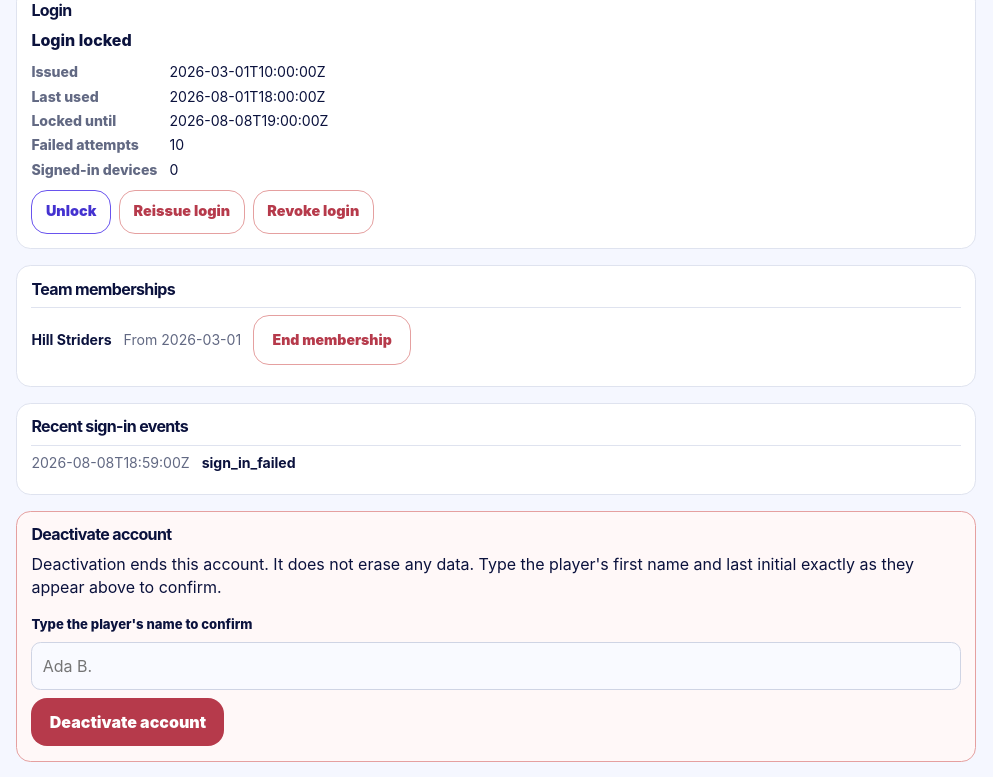
Test: player repair › reports a mismatched confirmation without deactivating anything
(page scrolled)
Type "Ada C." into the field labelled "Type the player's name to confirm" at x=496, y=666, box [31,642,961,690]
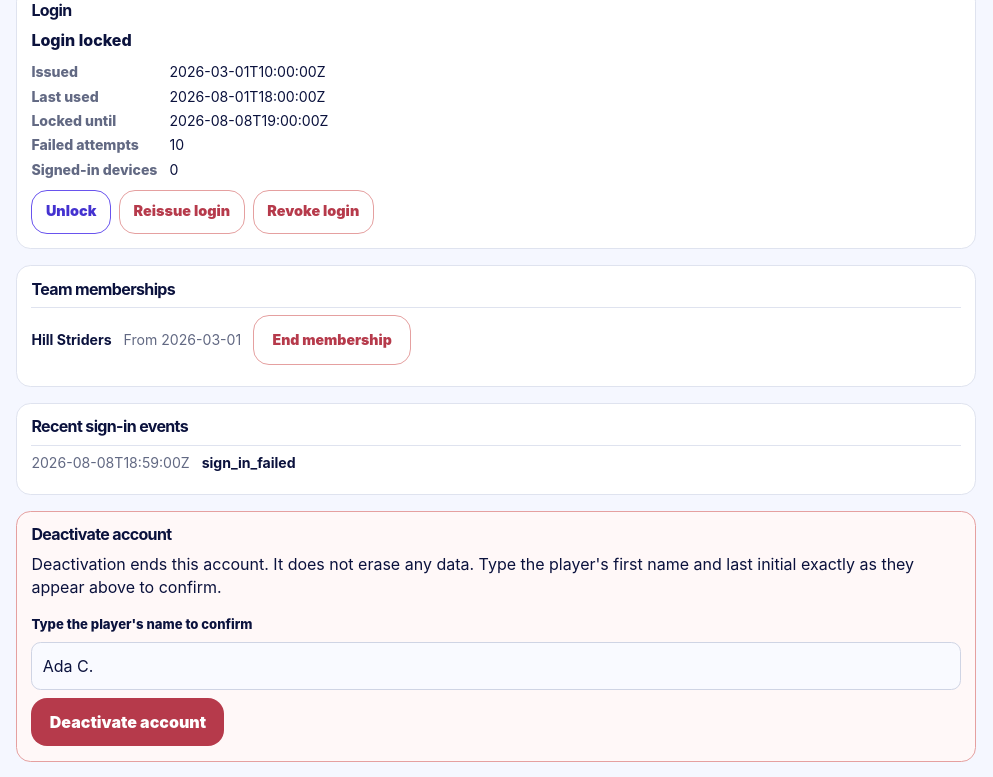
Submit the form from the button "Deactivate account", box [31,698,224,746]
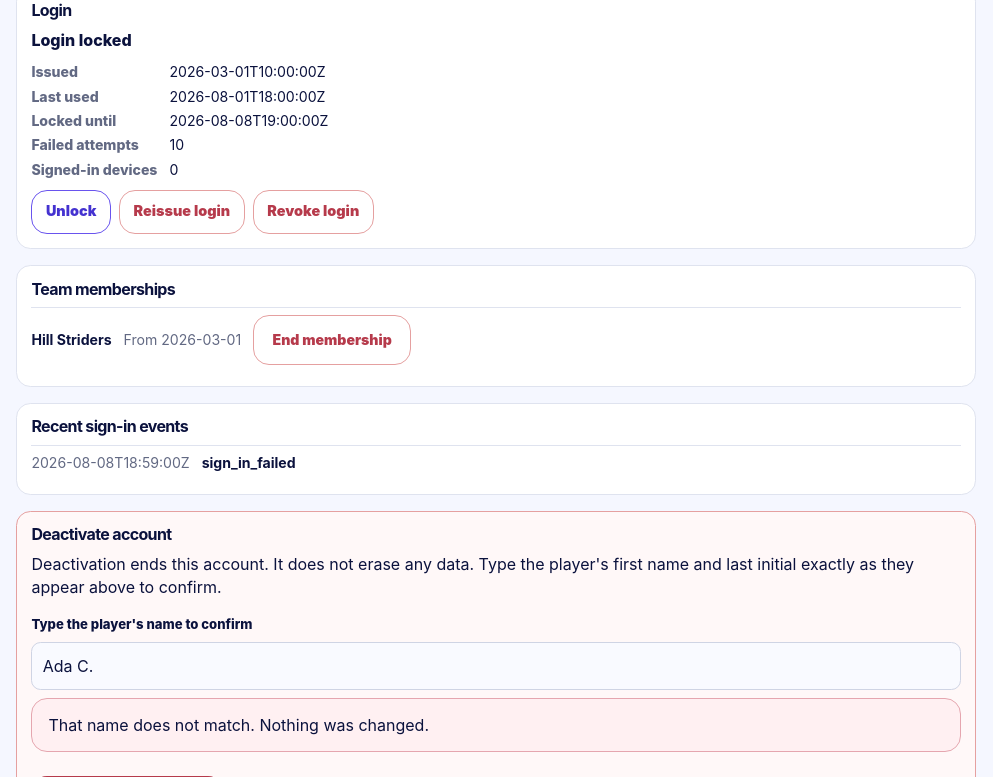
Now the message reads "That name does not match. Nothing was changed.", box [48,715,429,735]
